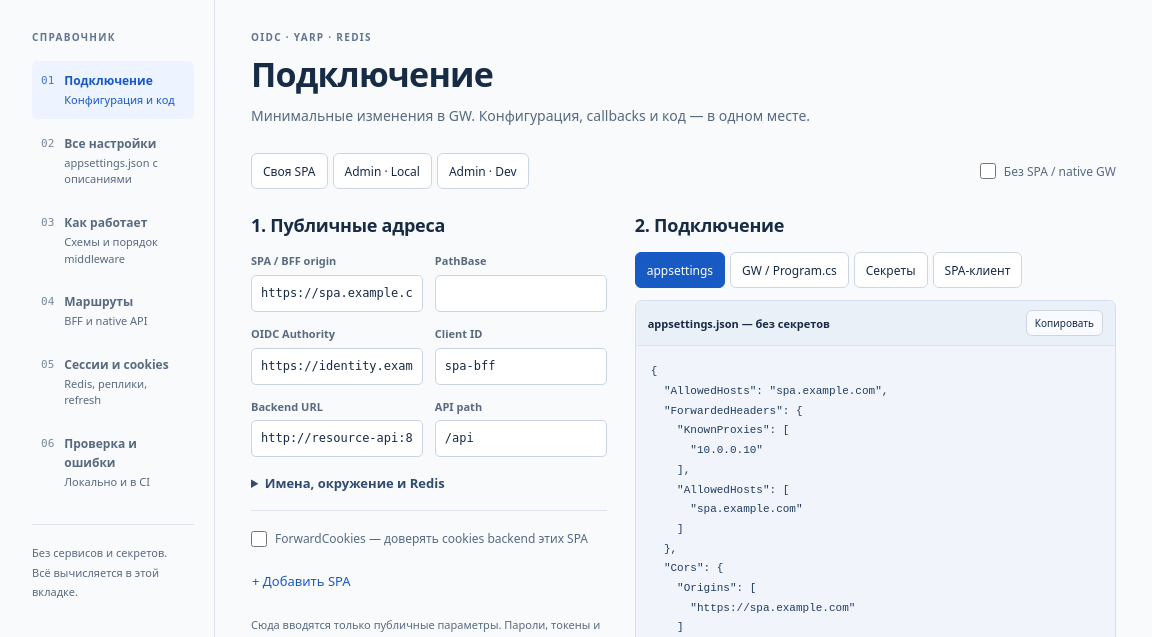
Test: hides generated configuration for unsafe URLs
Replace the text in the field labelled "SPA / BFF origin" with "https://user:password@spa.example/path" at x=337, y=294, box [251, 275, 423, 312]
(page scrolled)
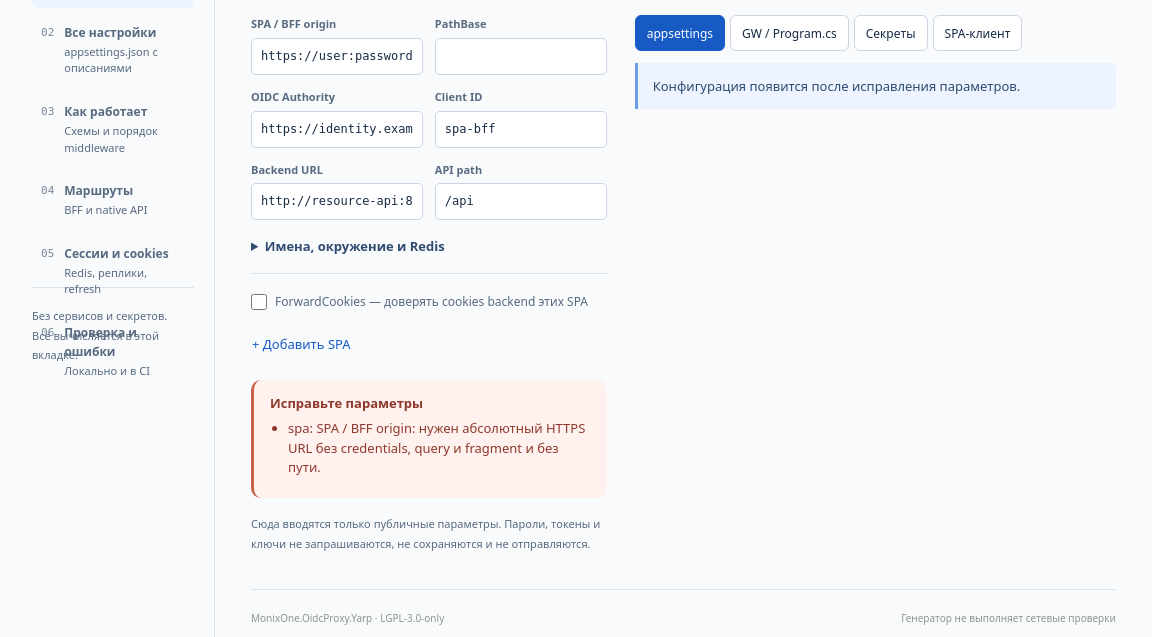
Check: the message shows "без credentials", box [288, 419, 585, 476]
Check: the text "appsettings.json — без секретов" is gone
